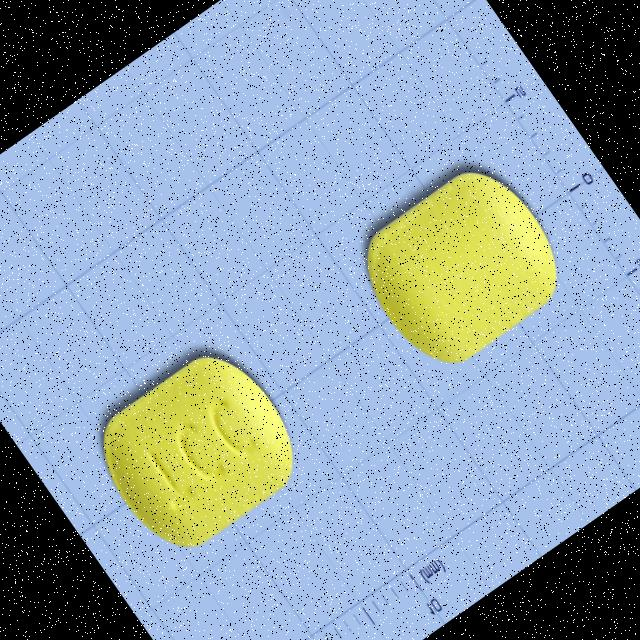Clycin Tab-500mg: (81, 336, 316, 566), (346, 152, 580, 382)
